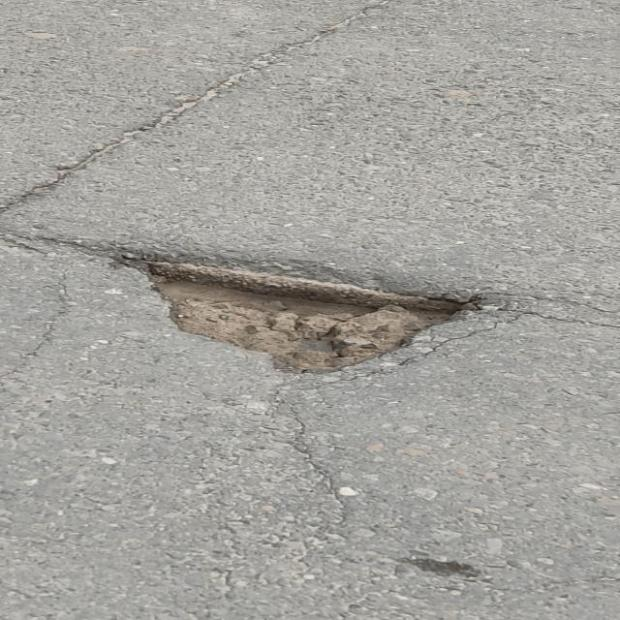lubang: (79, 243, 500, 372)
